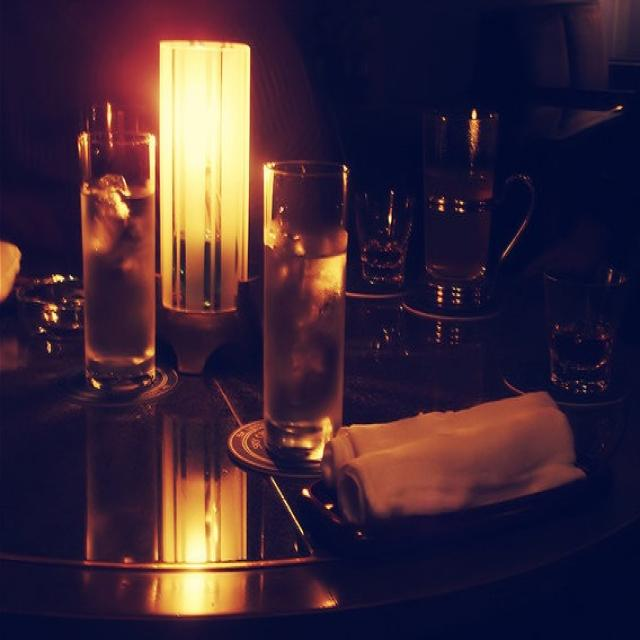Cup: (153, 24, 267, 402), (271, 144, 367, 505), (411, 84, 517, 373), (75, 138, 166, 415), (534, 214, 629, 432), (6, 256, 101, 423), (355, 150, 423, 329)
Table: (0, 251, 638, 640)
